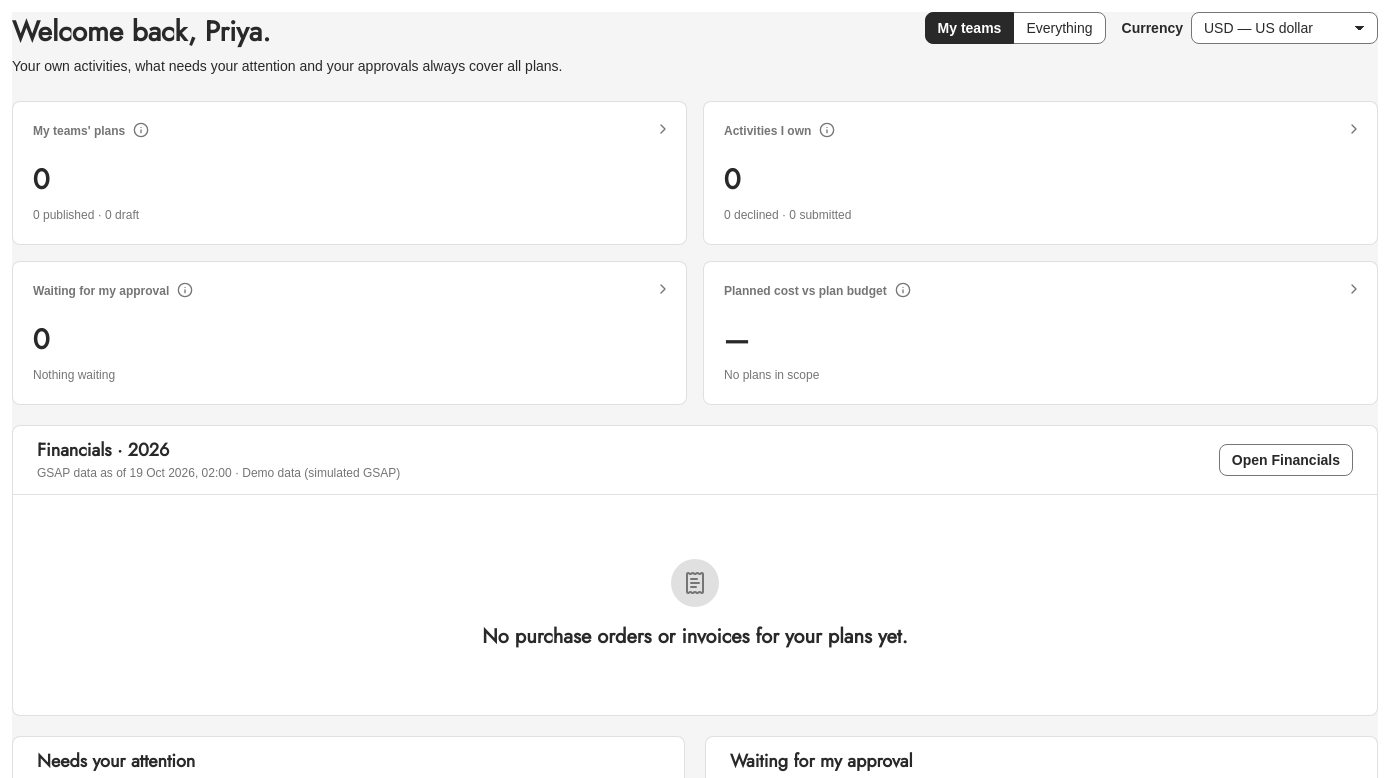
it: HomePage › says when the scope could not be saved, with Try again (FR-003)
This screenshot has width=1390, height=778.
Expected: the link named "My teams' plans" is shown, [12,101,687,245]
Click the button "Everything": (1060, 28) [1013,12,1106,44]
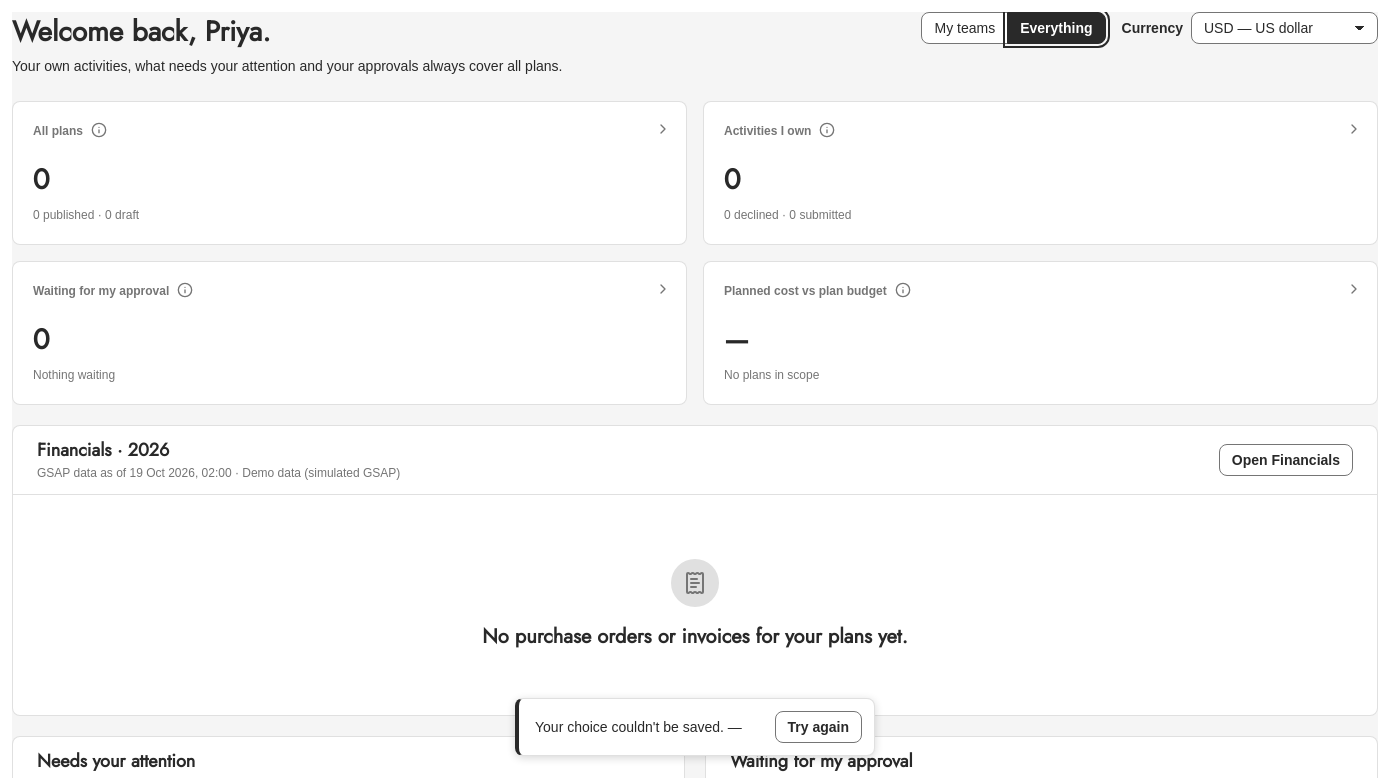
Now the button "Try again" is shown, box [774,711,862,743]
